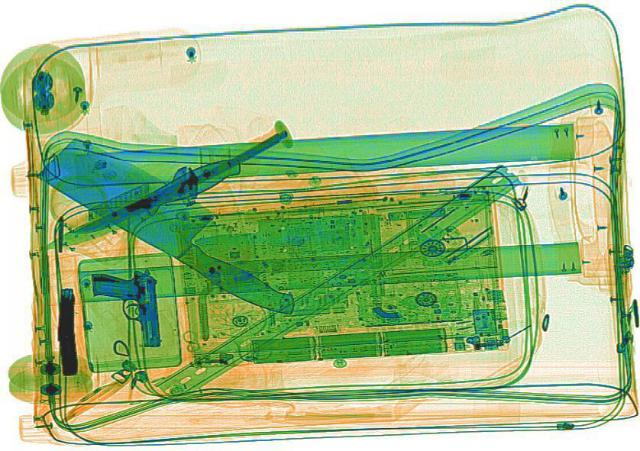Gun: (87, 265, 161, 348), (56, 288, 76, 373)
Knife: (18, 134, 336, 319), (68, 130, 292, 237), (26, 151, 248, 256)
